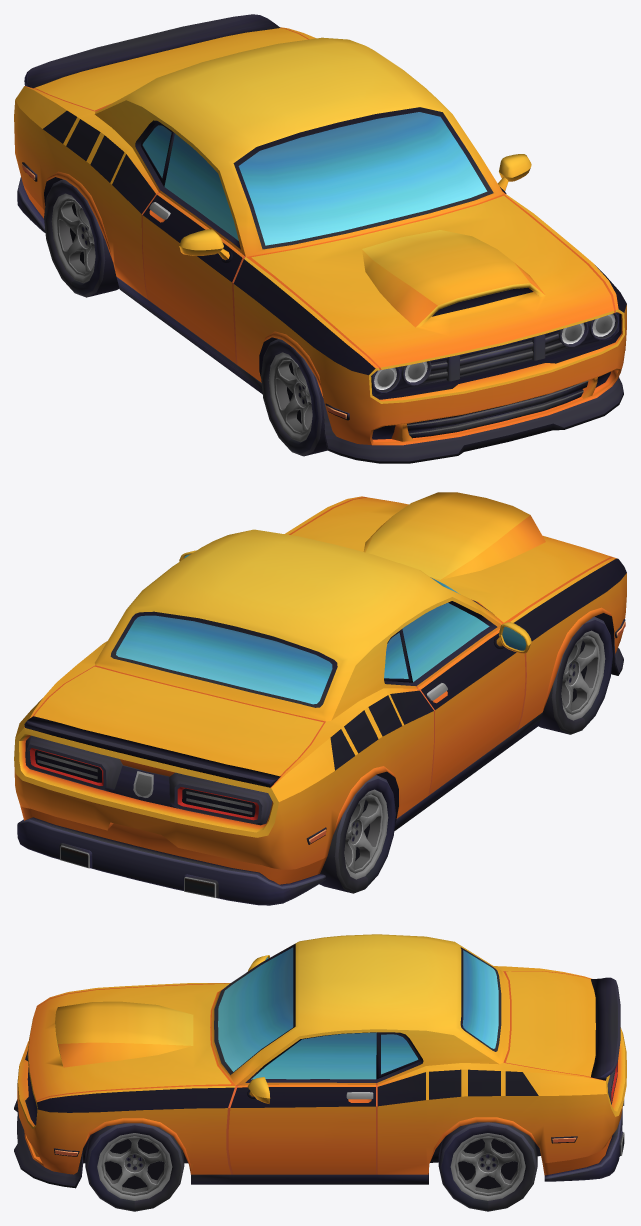
File: evo-bumble-compressed.glb
3 renders of one model, top to bottom at view 1: azimuth 30°, elevation 25°; view 2: azimuth 150°, elevation 25°; view 3: azimuth 270°, elevation 25°, orthographic. The views are drawn at different scales.
Parts seen in each view (by area): view 1: Fast_Charger_Variant_1, Fast_Charger_RearRightWheel003, Fast_Charger_FrontRightWheel003; view 2: Fast_Charger_Variant_1, Fast_Charger_RearRightWheel003, Fast_Charger_FrontRightWheel003; view 3: Fast_Charger_Variant_1, Fast_Charger_RearLeftWheel003, Fast_Charger_FrontLeftWheel003.
Boxes of the visible parts, left/top/right/bottom form: Fast_Charger_Variant_1: left=14, top=14, right=626, bottom=463; Fast_Charger_RearRightWheel003: left=44, top=179, right=119, bottom=297; Fast_Charger_FrontRightWheel003: left=261, top=339, right=327, bottom=456; Fast_Charger_Variant_1: left=14, top=492, right=626, bottom=905; Fast_Charger_RearRightWheel003: left=319, top=775, right=395, bottom=893; Fast_Charger_FrontRightWheel003: left=538, top=616, right=612, bottom=734; Fast_Charger_Variant_1: left=14, top=934, right=626, bottom=1188; Fast_Charger_RearLeftWheel003: left=438, top=1122, right=537, bottom=1211; Fast_Charger_FrontLeftWheel003: left=85, top=1123, right=184, bottom=1211.
Size of the model in its own units: 2.63 by 1.67 by 4.91.
Materials: 1 (1 with a texture image).
